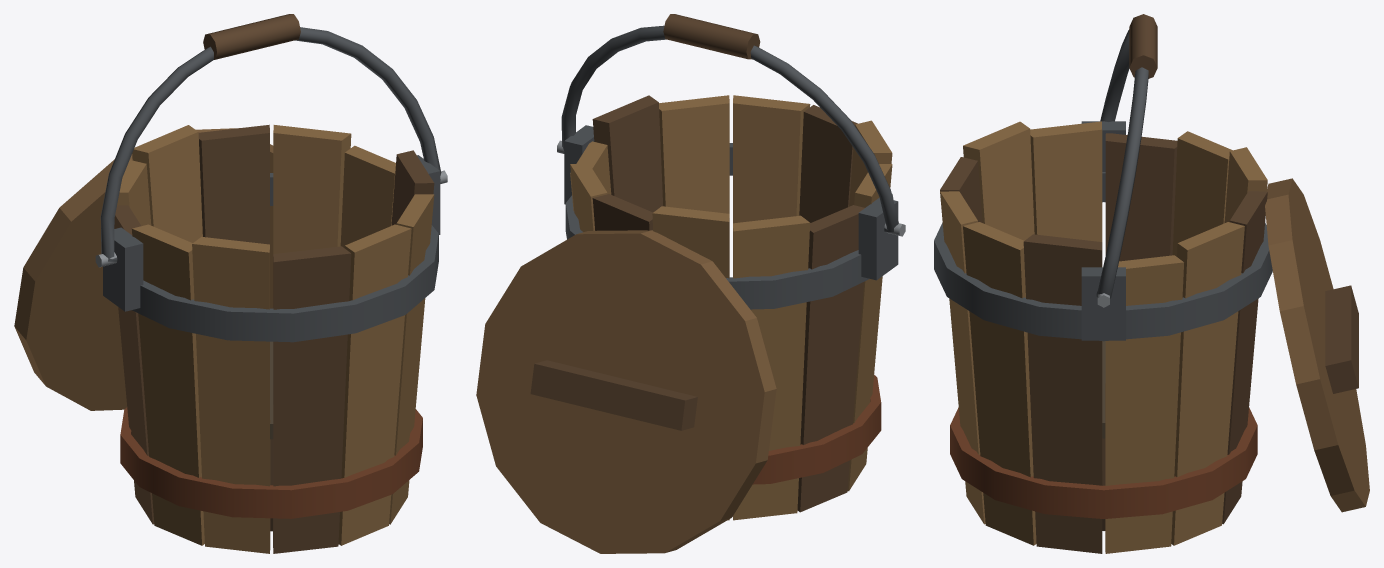
File: SM_LPD_Prison_CellFurnitureBucket_01.fbx
3 renders of one model, left to right at view 1: azimuth 30°, elevation 25°; view 2: azimuth 150°, elevation 25°; view 3: azimuth 270°, elevation 25°, orthographic.
Visible parts, largest first — view 1: SM_LPD_Prison_CellFurnitureBucket_01; view 2: SM_LPD_Prison_CellFurnitureBucket_01; view 3: SM_LPD_Prison_CellFurnitureBucket_01.
Boxes of the visible parts, x1=… form: SM_LPD_Prison_CellFurnitureBucket_01: x1=14, y1=14, x2=447, y2=553; SM_LPD_Prison_CellFurnitureBucket_01: x1=476, y1=14, x2=905, y2=553; SM_LPD_Prison_CellFurnitureBucket_01: x1=934, y1=14, x2=1369, y2=553.
Bounding box in the file's own units: 0.4541 × 0.5747 × 0.4919.
